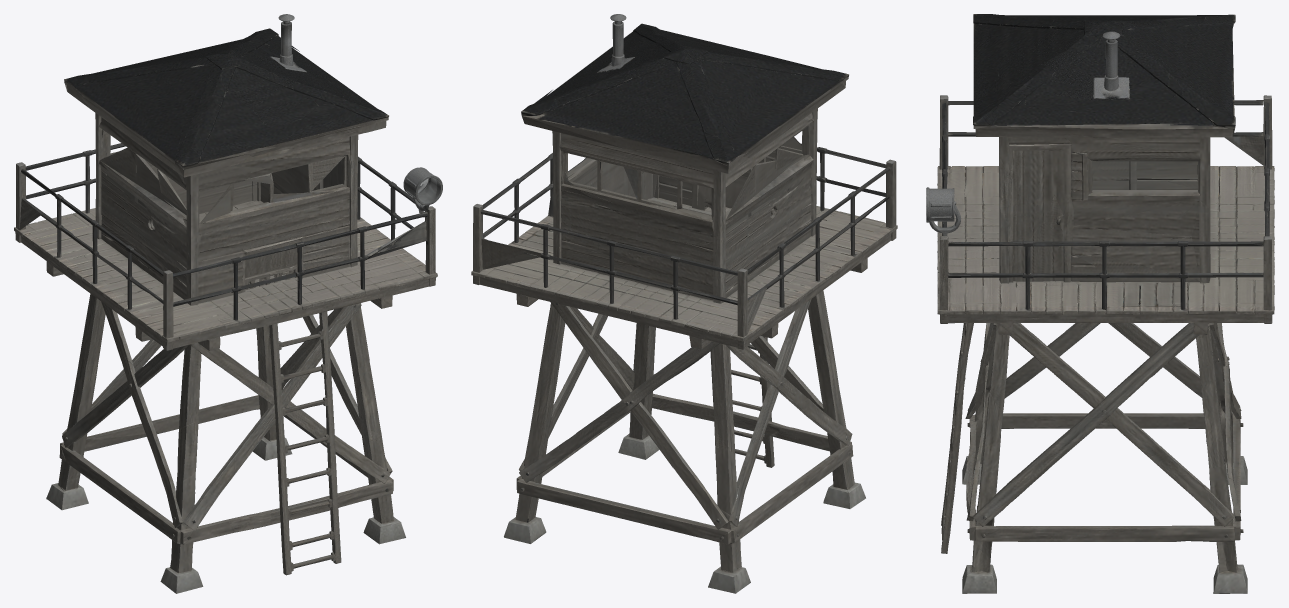
The model's file is guard_tower_v2.glb.
3 views of the same model, side by side, from view 1: azimuth 30°, elevation 25°; view 2: azimuth 150°, elevation 25°; view 3: azimuth 270°, elevation 25° (orthographic). The views are drawn at different scales.
Bounding box in the file's own units: 1.11 × 1.9 × 1.12.
1 material, 1 textured.
